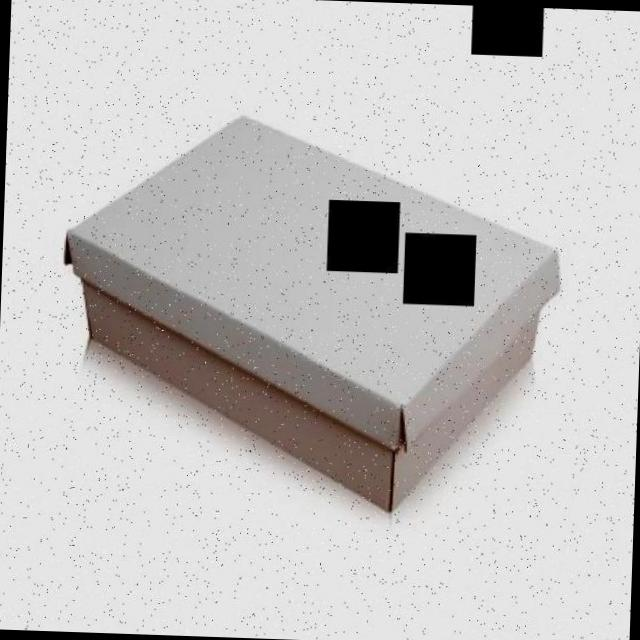box: (36, 100, 585, 524)
